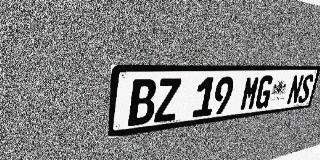1: (192, 77, 217, 118)
9: (211, 76, 235, 115)
B: (128, 79, 157, 126)
G: (254, 75, 275, 109)
M: (239, 76, 261, 111)
N: (286, 75, 305, 105)
S: (297, 74, 315, 104)
Z: (154, 78, 181, 123)
